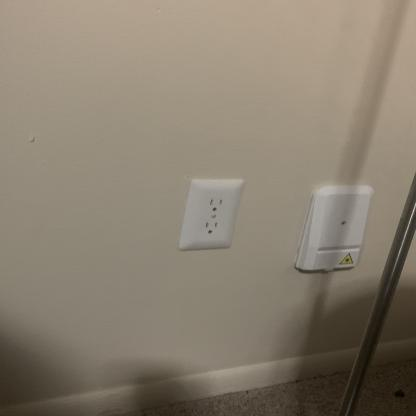OUTLET: (178, 180, 238, 250)
